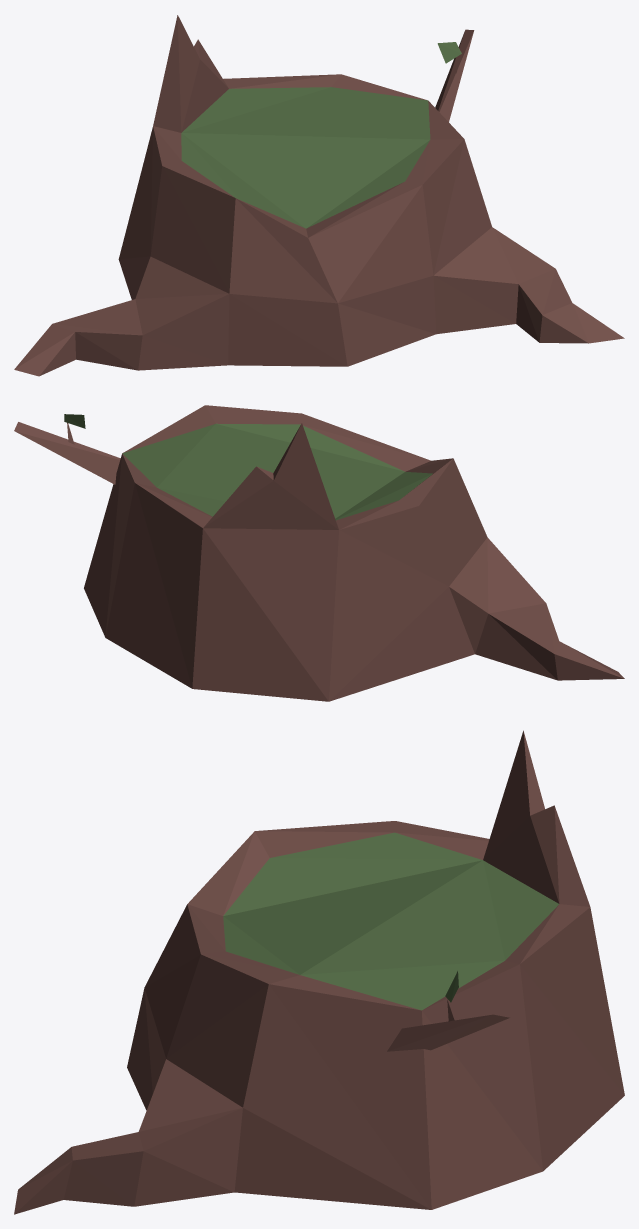
Rendered from TreeStump_Moss.lod1.glb.
The picture shows the model from 3 angles, top to bottom: view 1: azimuth 30°, elevation 25°; view 2: azimuth 150°, elevation 25°; view 3: azimuth 270°, elevation 25°; orthographic projection. The views are drawn at different scales.
Parts seen in each view (by area): view 1: TreeStump_Moss; view 2: TreeStump_Moss; view 3: TreeStump_Moss.
Part boxes in pixels (x1,y1,x2,y2): TreeStump_Moss: (14, 15, 624, 376); TreeStump_Moss: (14, 405, 624, 701); TreeStump_Moss: (14, 730, 624, 1214).
Bounding box in the file's own units: 1.35 × 0.6121 × 1.04.
